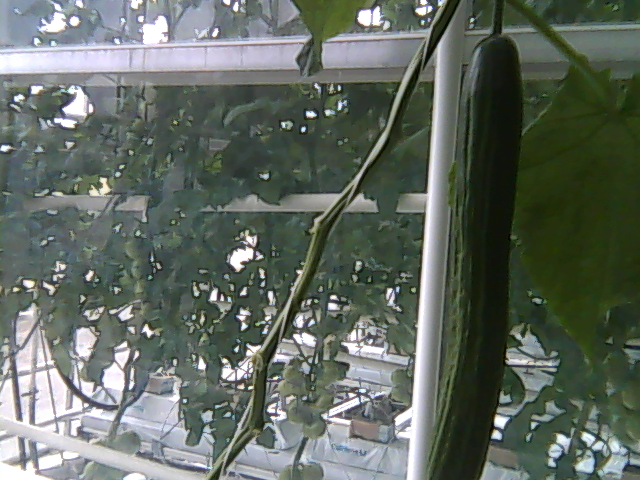concombre: (415, 22, 532, 480)
